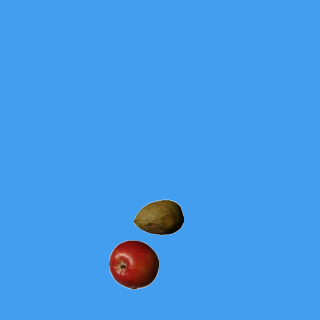Apple Braeburn: (108, 239, 158, 289)
Papaya: (133, 192, 183, 242)
